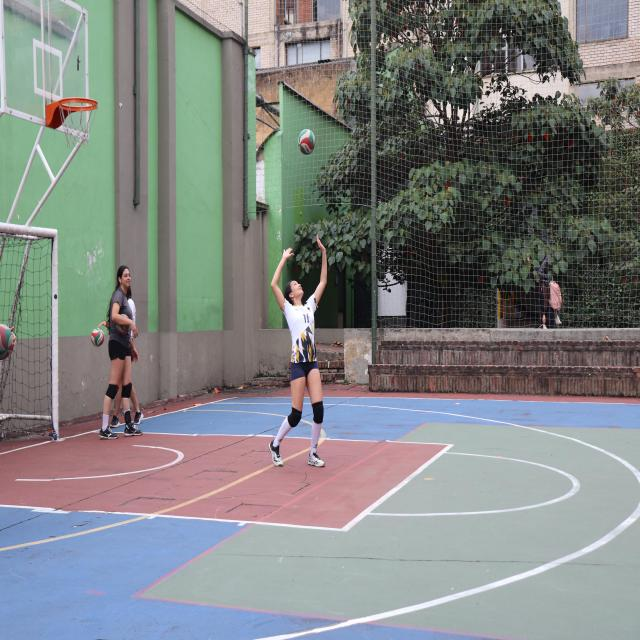volleyball: (298, 128, 316, 156), (0, 324, 14, 360), (91, 328, 104, 347)
